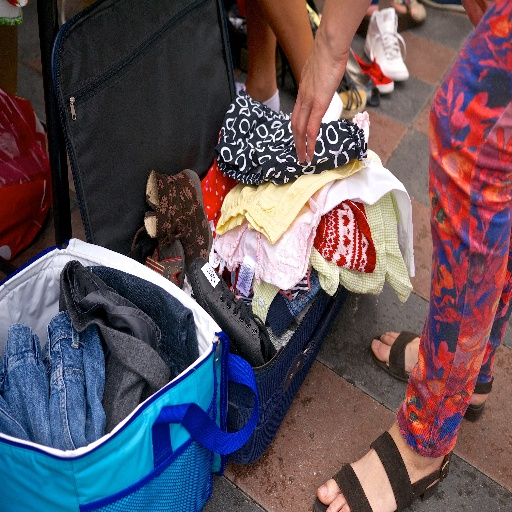hand: (288, 8, 360, 163)
